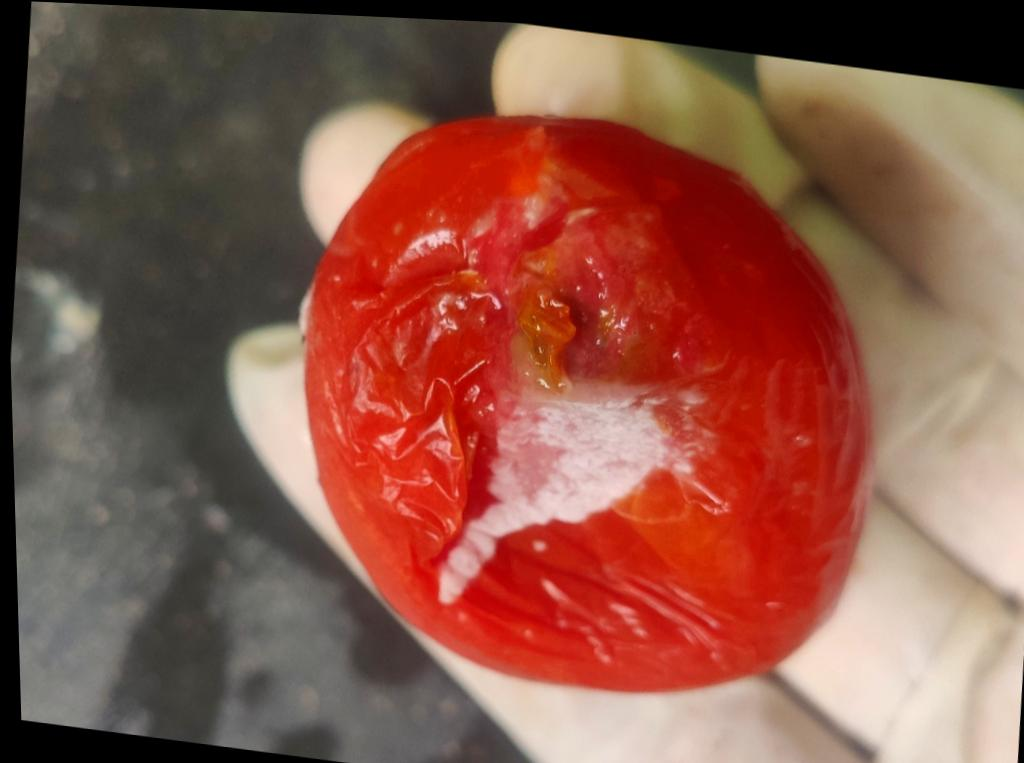rot_mold_decay: (438, 391, 698, 603), (515, 238, 633, 394)
tomato: (306, 116, 870, 690)
